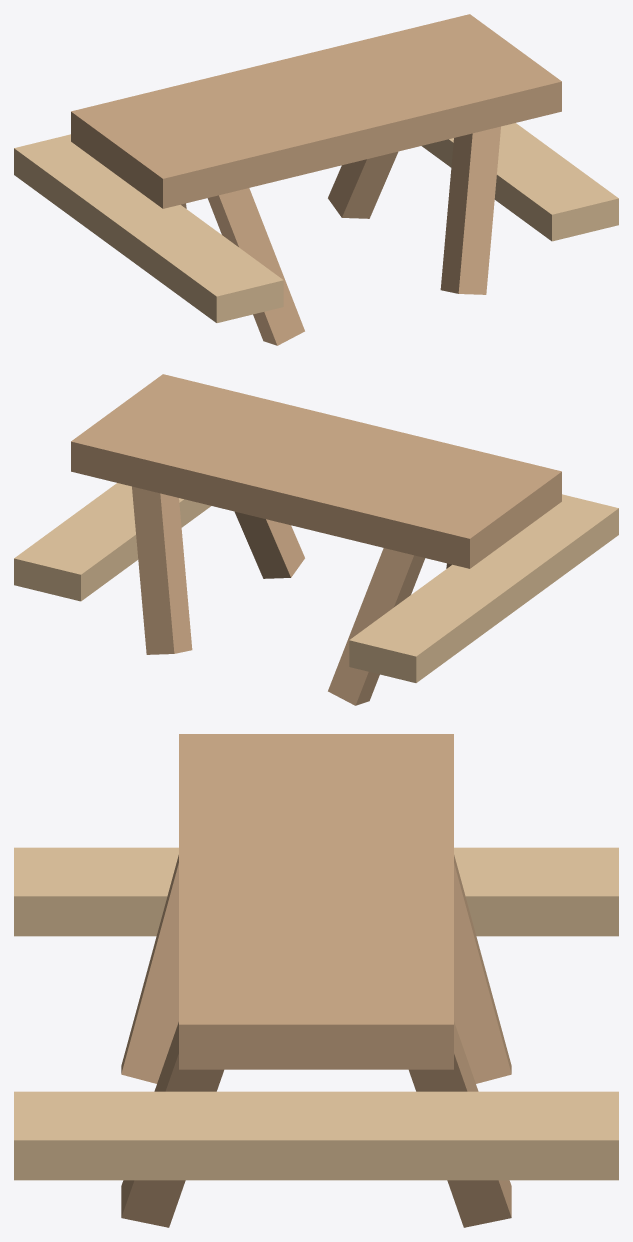
Rendered from picnic-table.glb.
The picture shows the model from 3 angles, top to bottom: view 1: azimuth 30°, elevation 25°; view 2: azimuth 150°, elevation 25°; view 3: azimuth 270°, elevation 25°; orthographic projection. The views are drawn at different scales.
Parts seen in each view (by area): view 1: tabletop, bench-left, bench-right, leg-4, leg-3, leg-2; view 2: tabletop, bench-left, bench-right, leg-2, leg-1, leg-4; view 3: tabletop, bench-right, bench-left, leg-1, leg-3, leg-2, leg-4.
Boxes of the visible parts, left/top/right/bottom form: tabletop: left=71, top=14, right=561, bottom=208; bench-left: left=14, top=134, right=283, bottom=322; bench-right: left=422, top=123, right=618, bottom=241; leg-4: left=440, top=126, right=500, bottom=294; leg-3: left=207, top=188, right=304, bottom=345; leg-2: left=328, top=151, right=398, bottom=218; tabletop: left=71, top=374, right=561, bottom=568; bench-left: left=349, top=494, right=618, bottom=682; bench-right: left=14, top=483, right=210, bottom=601; leg-2: left=132, top=486, right=192, bottom=654; leg-1: left=328, top=548, right=425, bottom=705; leg-4: left=234, top=511, right=304, bottom=578; tabletop: left=179, top=734, right=453, bottom=1069; bench-right: left=14, top=1091, right=618, bottom=1180; bench-left: left=14, top=847, right=618, bottom=936; leg-1: left=454, top=855, right=511, bottom=1083; leg-3: left=121, top=855, right=178, bottom=1083; leg-2: left=409, top=1022, right=511, bottom=1227; leg-4: left=121, top=1022, right=223, bottom=1227.
Bounding box in the file's own units: 2.52 × 1.1 × 2.2.
